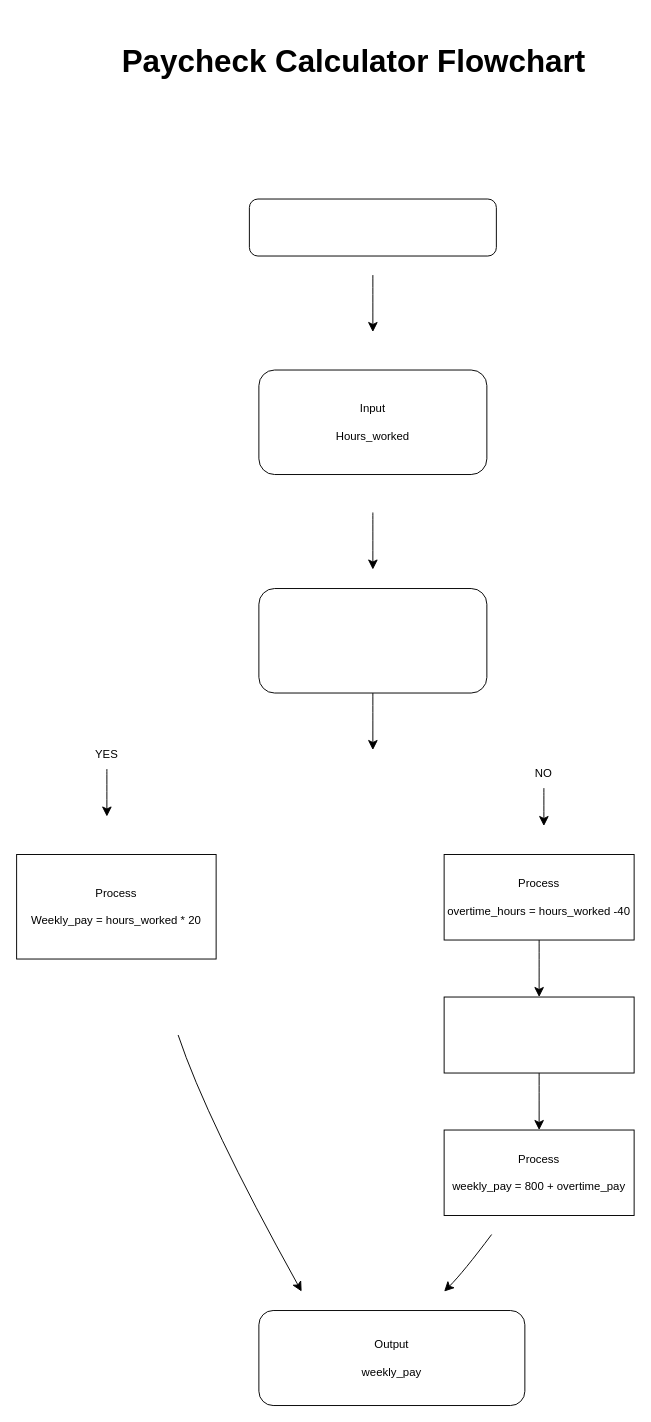
This 651x1422 diagram has some shape labels left out. Here are the shapes that lost their labels. From the top down, the centre of each, then its label:
At [372,227]: "START".
At [372,640]: "Decision Hours_worked <=40?".
At [538,1034]: "Process overtime_pay = overtime_hours * 30".
